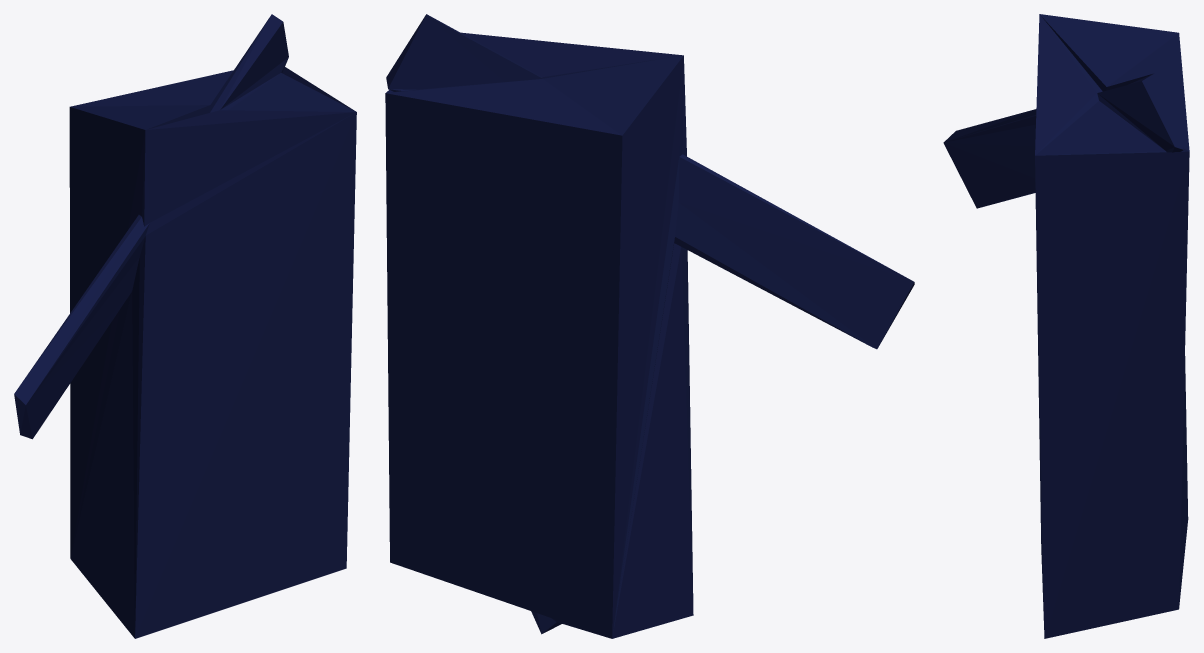
The picture shows the model from 3 angles, left to right: view 1: azimuth 30°, elevation 25°; view 2: azimuth 150°, elevation 25°; view 3: azimuth 270°, elevation 25°; orthographic projection. The views are drawn at different scales.
Visible parts, largest first — view 1: 097_Cube.406; view 2: 097_Cube.406; view 3: 097_Cube.406.
Boxes of the visible parts, bbox=[...] form: 097_Cube.406: bbox=[14, 14, 356, 638]; 097_Cube.406: bbox=[385, 14, 914, 638]; 097_Cube.406: bbox=[943, 14, 1189, 638].
Bounding box in the file's own units: 10.23 × 13.88 × 5.41.
